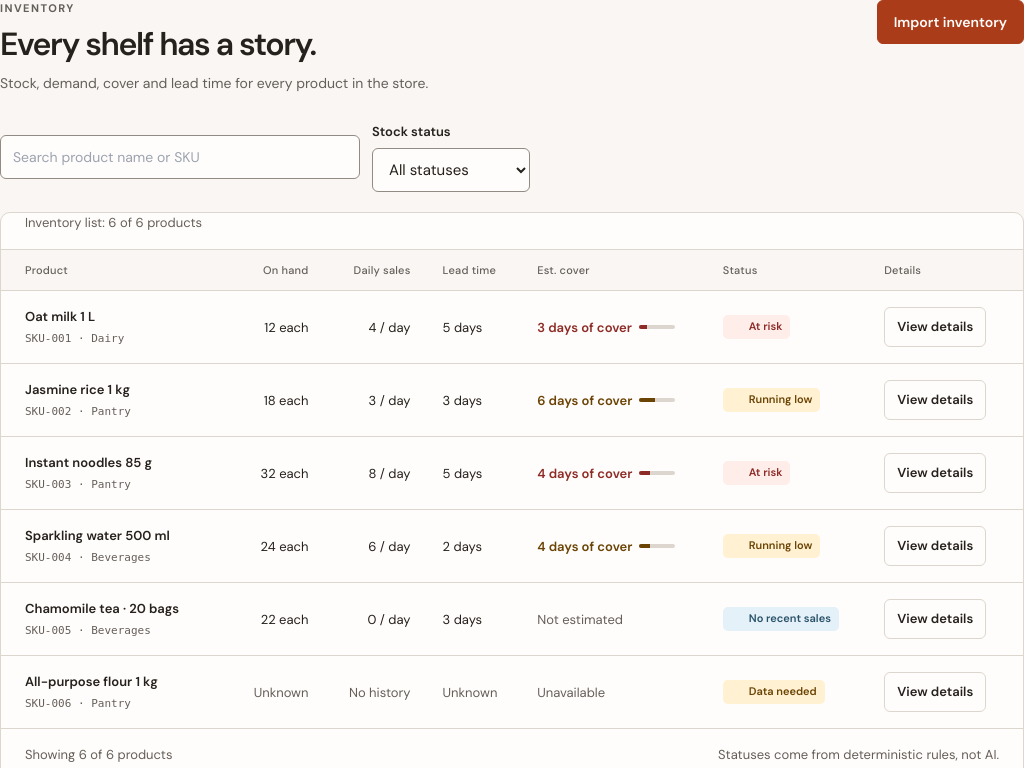
inventory (live data) › filters by status and shows an honest empty-filter state
This screenshot has width=1024, height=768.
Select "Healthy" in the dropdown labelled "Stock status" at (451, 170), box [372,148,530,192]
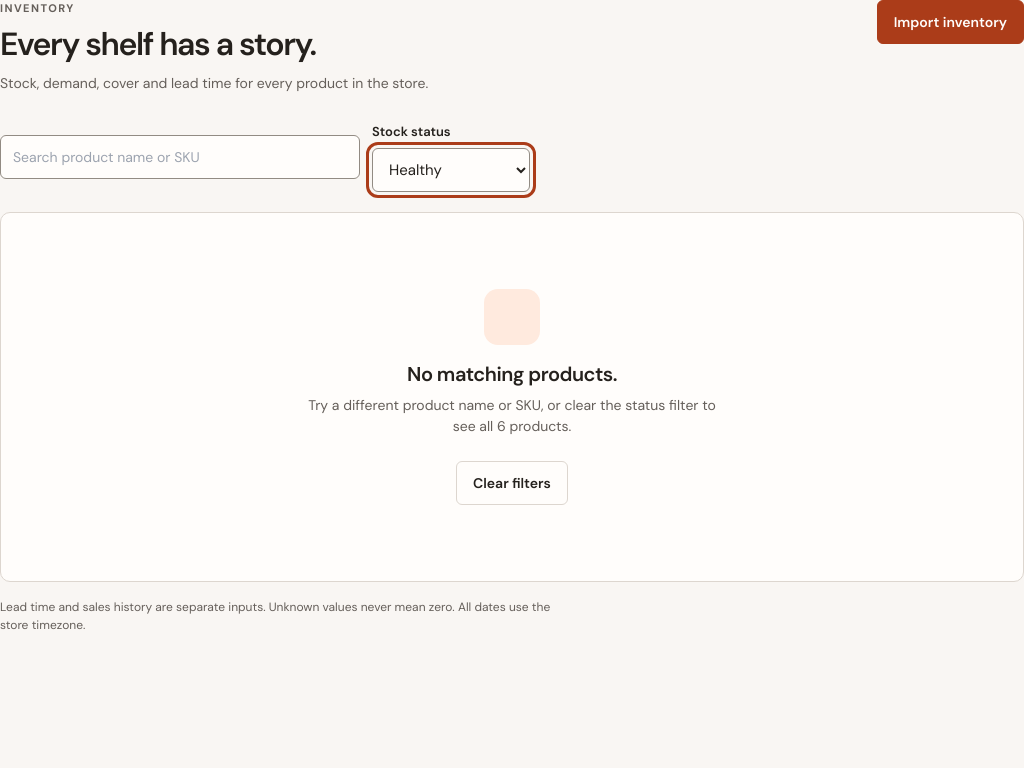
Expected: the heading "No matching products." is shown, [407,361,617,387]
Expected: the link "Oat milk 1 L" is gone
Click the button "Clear filters" at (512, 483), box [456,461,568,505]
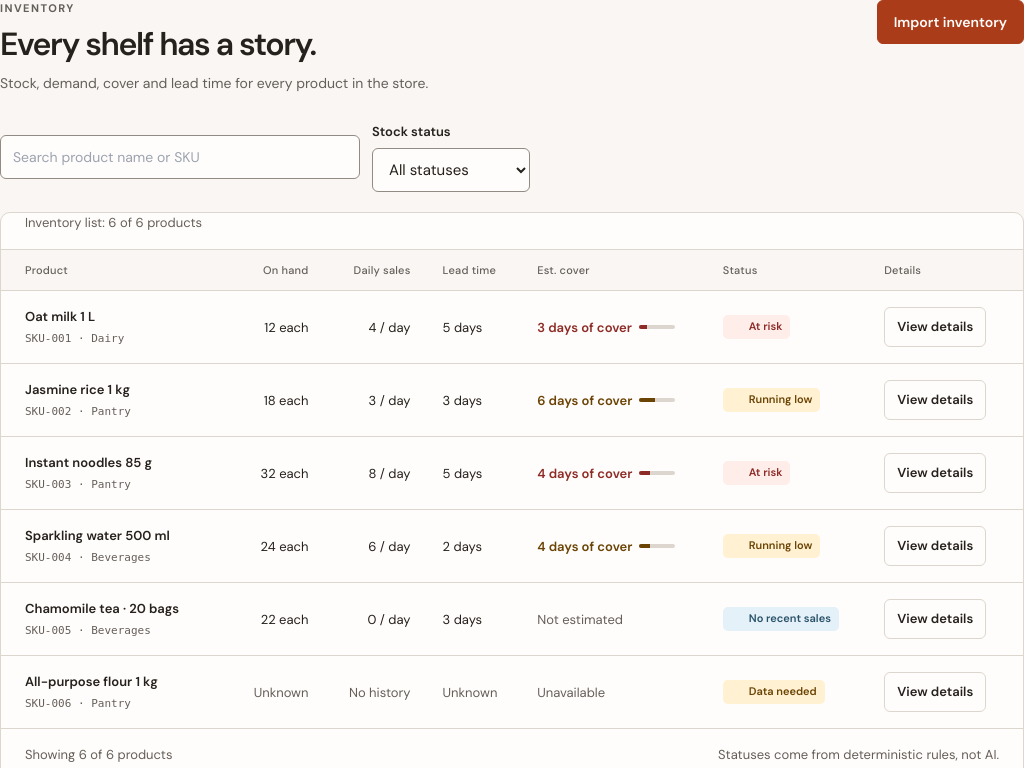
Expected: the link "Oat milk 1 L" is shown, [25,308,95,325]
